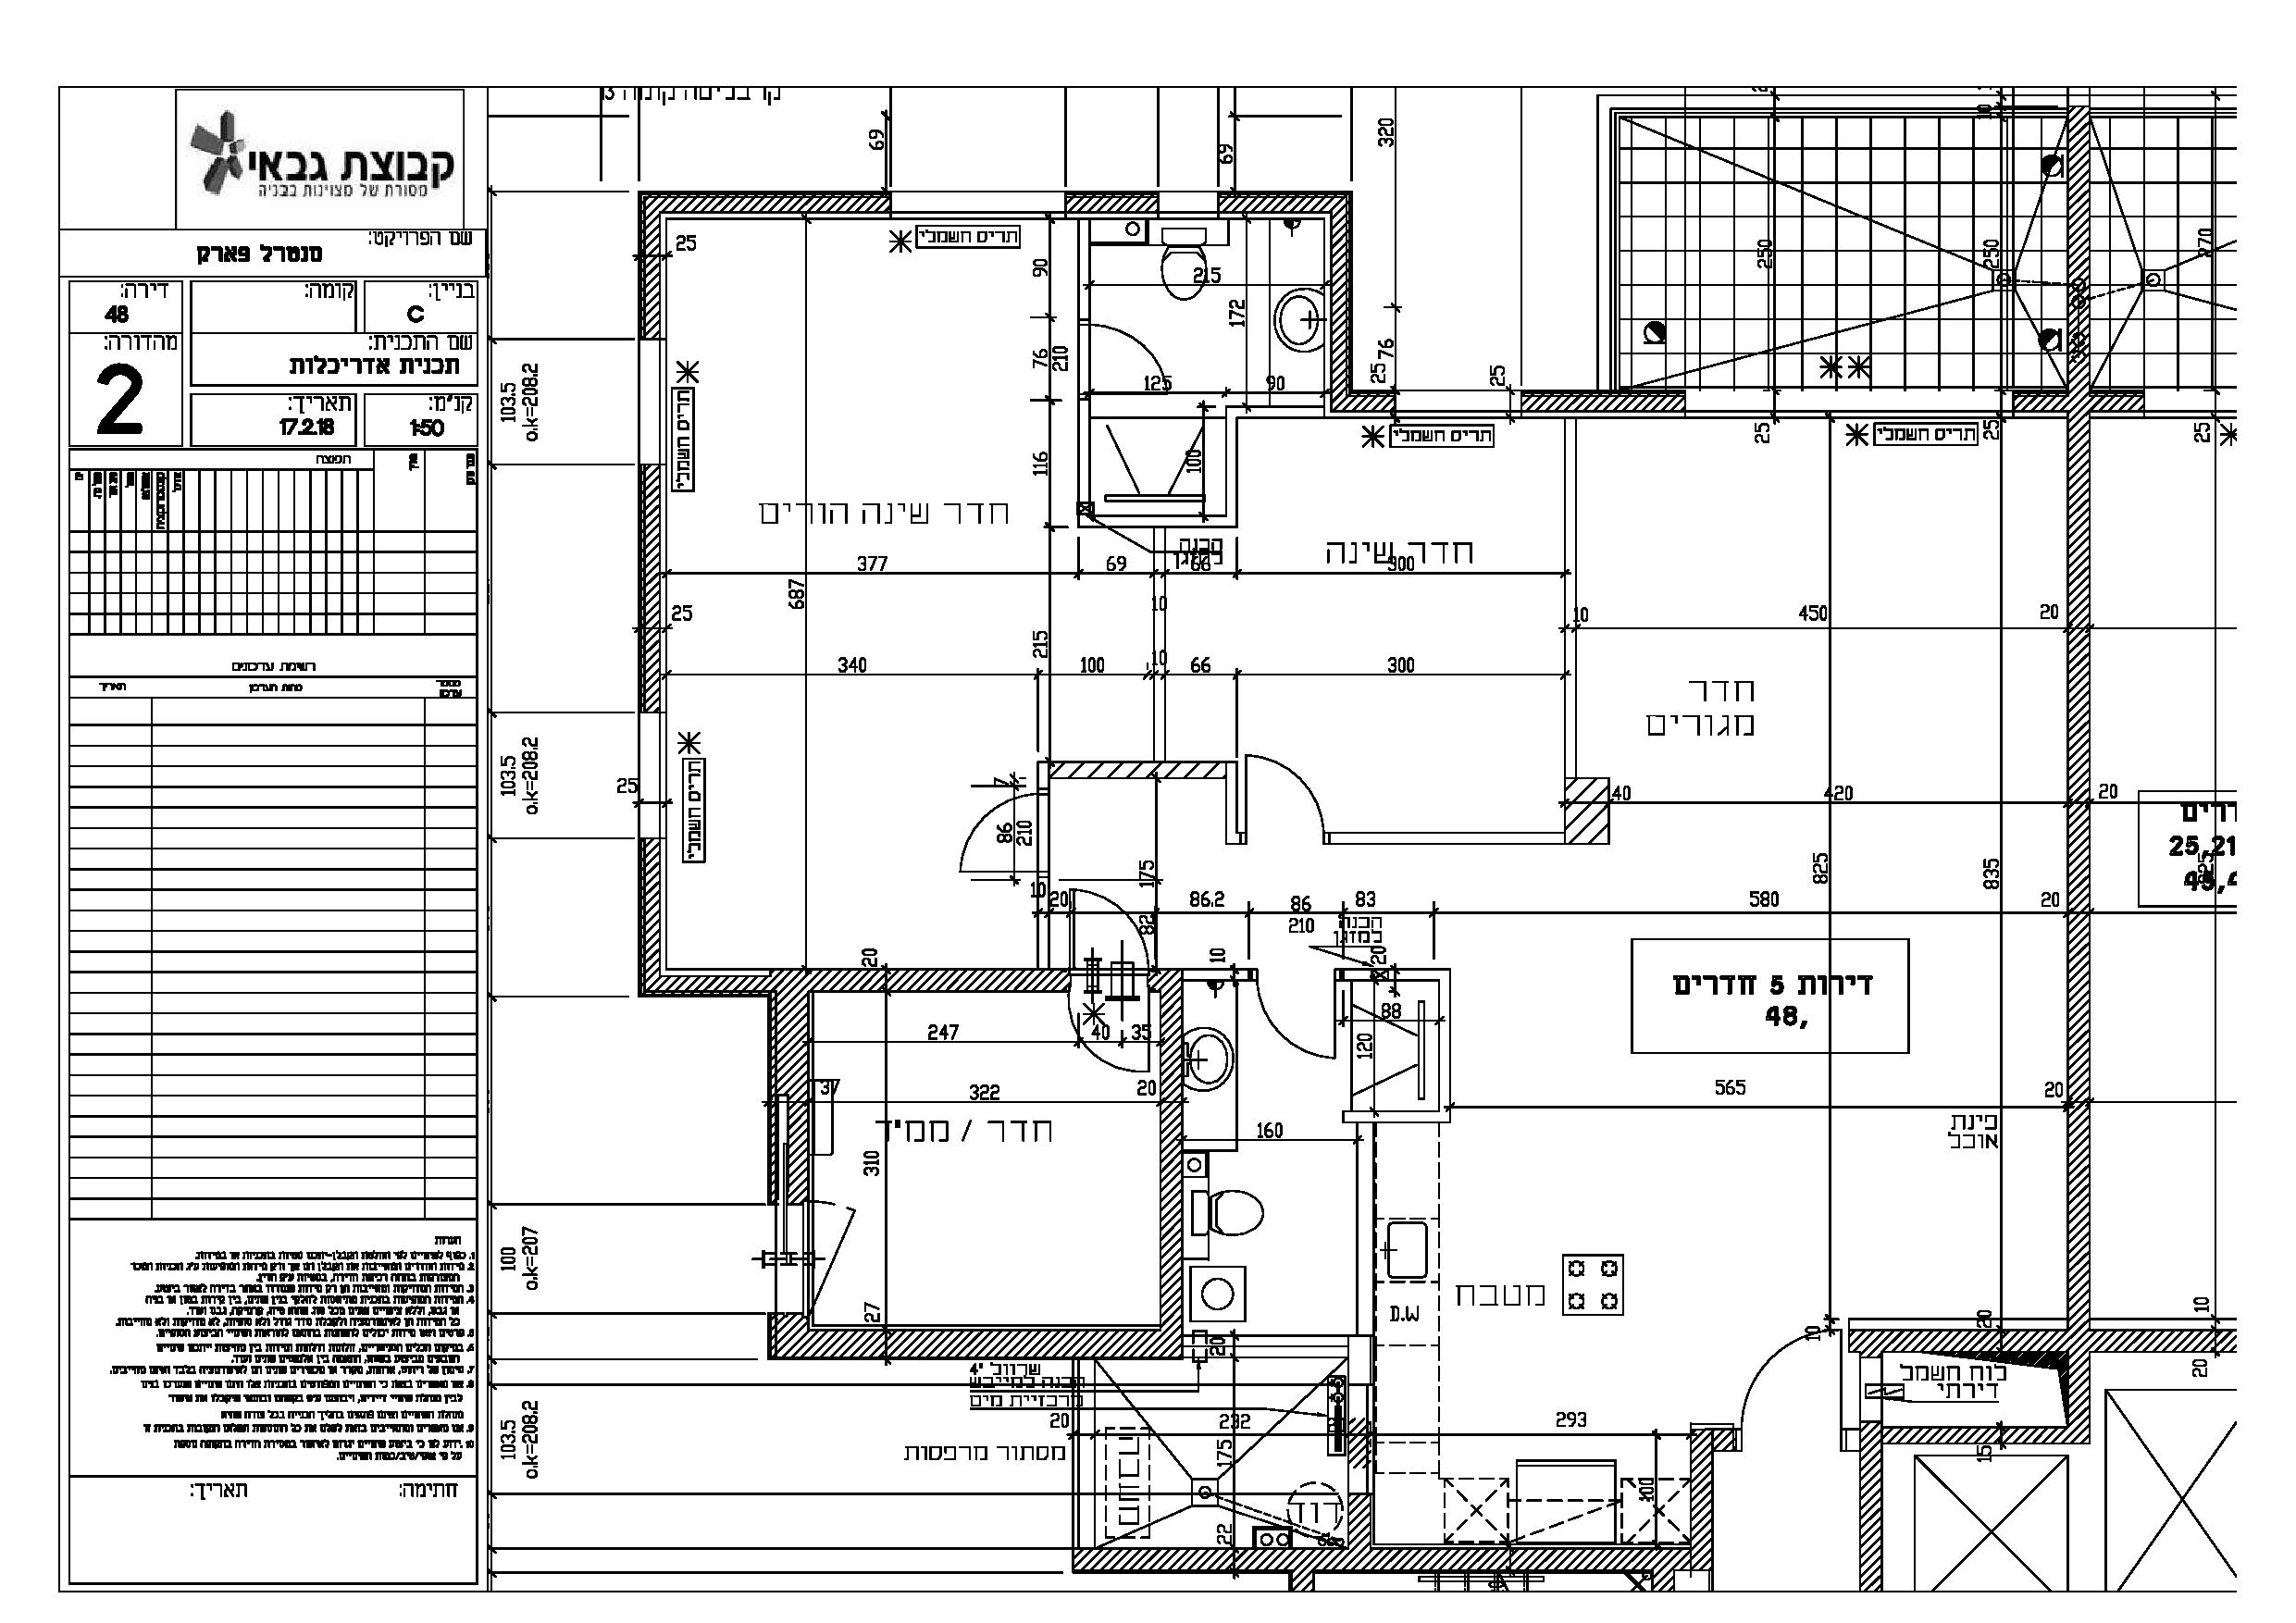door: (903, 768, 1028, 889), (1247, 989, 1340, 1073), (1054, 1008, 1158, 1080), (1242, 747, 1325, 819)
wall: (2069, 1107, 2092, 1446), (889, 1331, 1179, 1358), (1158, 1108, 1184, 1331), (2068, 376, 2087, 636), (1245, 1551, 1505, 1569), (2068, 912, 2090, 1107), (1860, 1423, 1883, 1593), (889, 971, 1068, 992), (2010, 1333, 2205, 1352), (652, 197, 885, 213), (1332, 202, 1349, 409), (1690, 1430, 1711, 1563), (1051, 762, 1224, 778), (1525, 1551, 1678, 1569), (645, 464, 659, 629), (645, 843, 659, 994)
window: (889, 184, 1066, 227), (1397, 383, 1523, 425), (1158, 184, 1219, 228)
